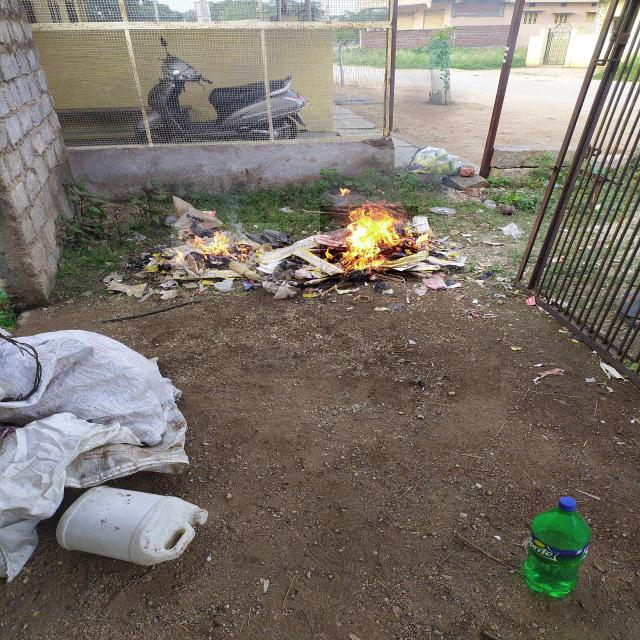Fire: (321, 206, 418, 282), (171, 223, 279, 274)
